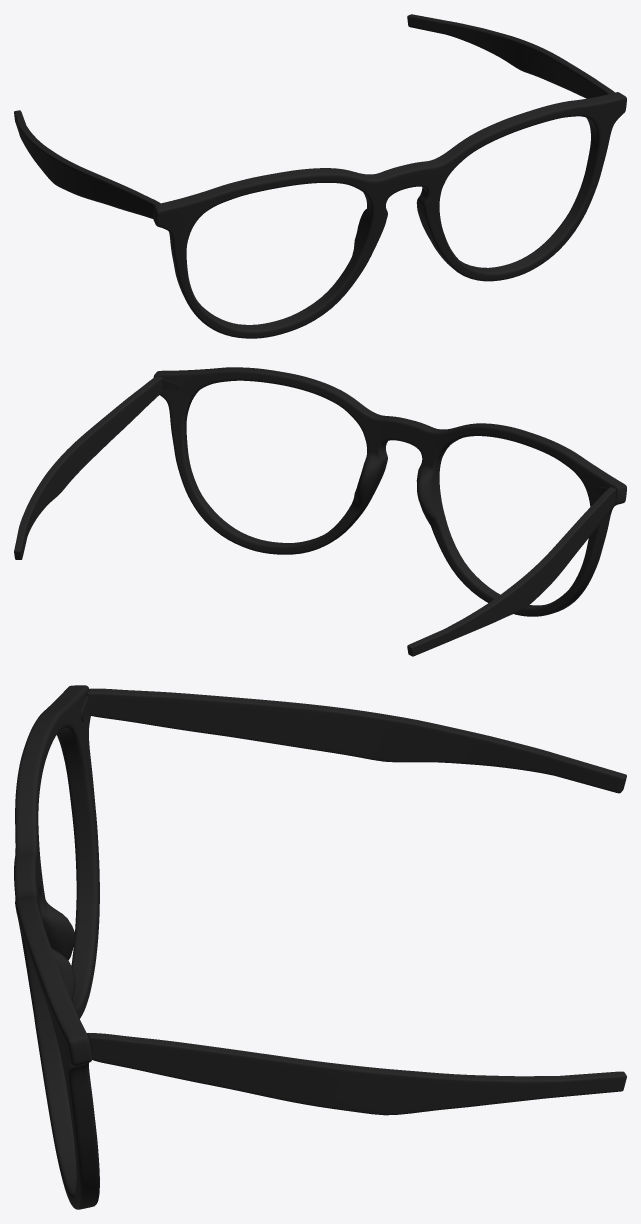
The model's file is ErikaApp.glb.
3 views of the same model, one above another, from view 1: azimuth 30°, elevation 25°; view 2: azimuth 150°, elevation 25°; view 3: azimuth 270°, elevation 25° (orthographic). The views are drawn at different scales.
Parts seen in each view (by area): view 1: Armacao; view 2: Armacao; view 3: Armacao.
Boxes of the visible parts, x1=… form: Armacao: x1=14, y1=14, x2=626, y2=338; Armacao: x1=14, y1=367, x2=626, y2=656; Armacao: x1=14, y1=685, x2=626, y2=1209.
Size of the model in its own units: 0.1621 by 0.0552 by 0.1162.
Materials: 1 (1 with a texture image).
